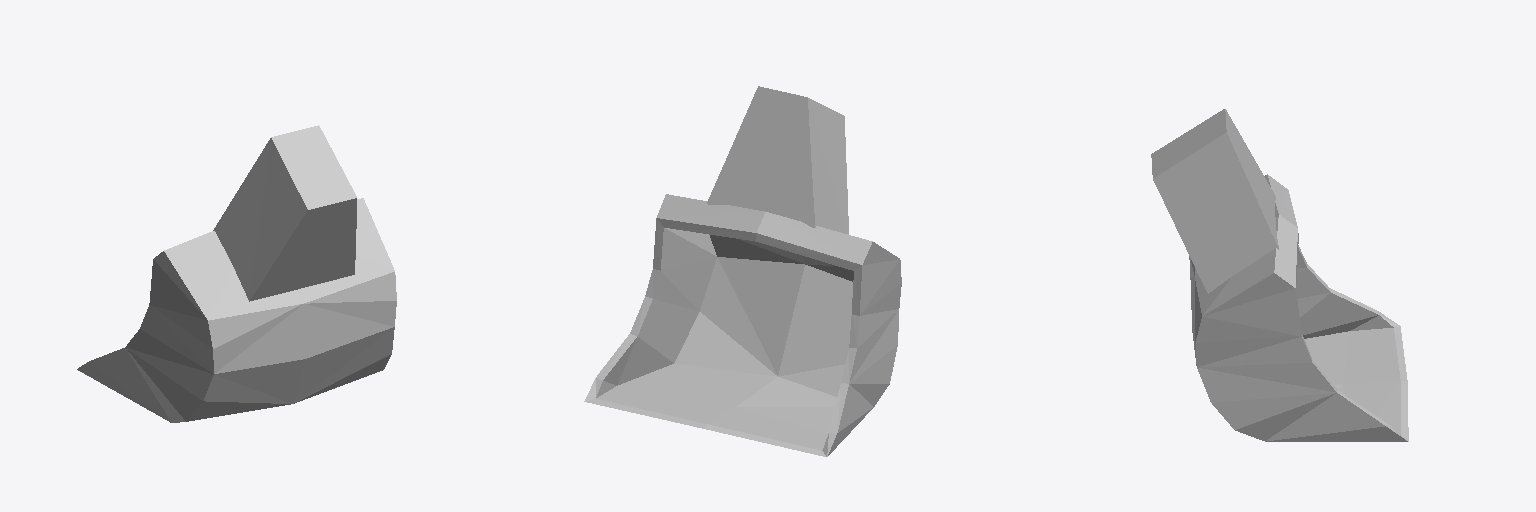
Rendered from Bucket.obj.
3 views of the same model, side by side, from view 1: azimuth 30°, elevation 25°; view 2: azimuth 150°, elevation 25°; view 3: azimuth 270°, elevation 25° (orthographic).
Parts seen in each view (by area): view 1: Digger_Bucket; view 2: Digger_Bucket; view 3: Digger_Bucket.
Boxes of the visible parts, <box> form: Digger_Bucket: <box>77,125,396,422</box>; Digger_Bucket: <box>584,86,901,456</box>; Digger_Bucket: <box>1151,109,1408,441</box>.
Bounding box in the file's own units: 152 × 173 × 142.